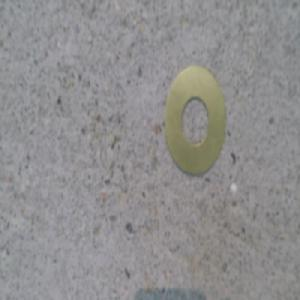Washer: (163, 63, 225, 178)
